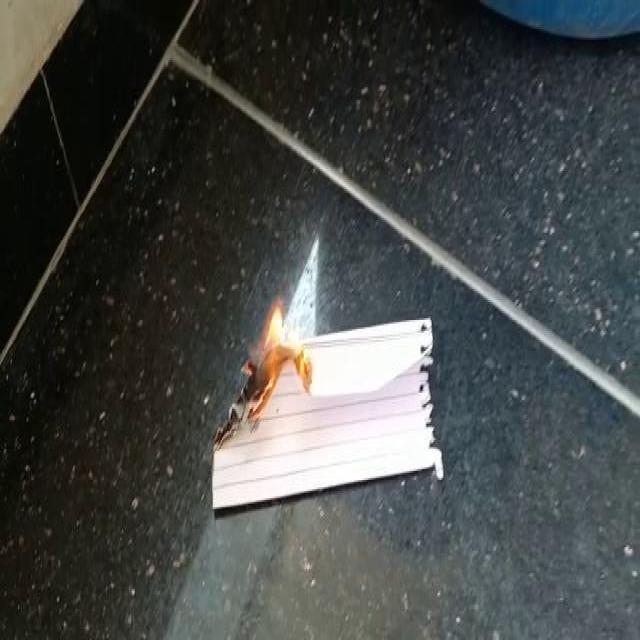fire: (242, 300, 313, 427)
